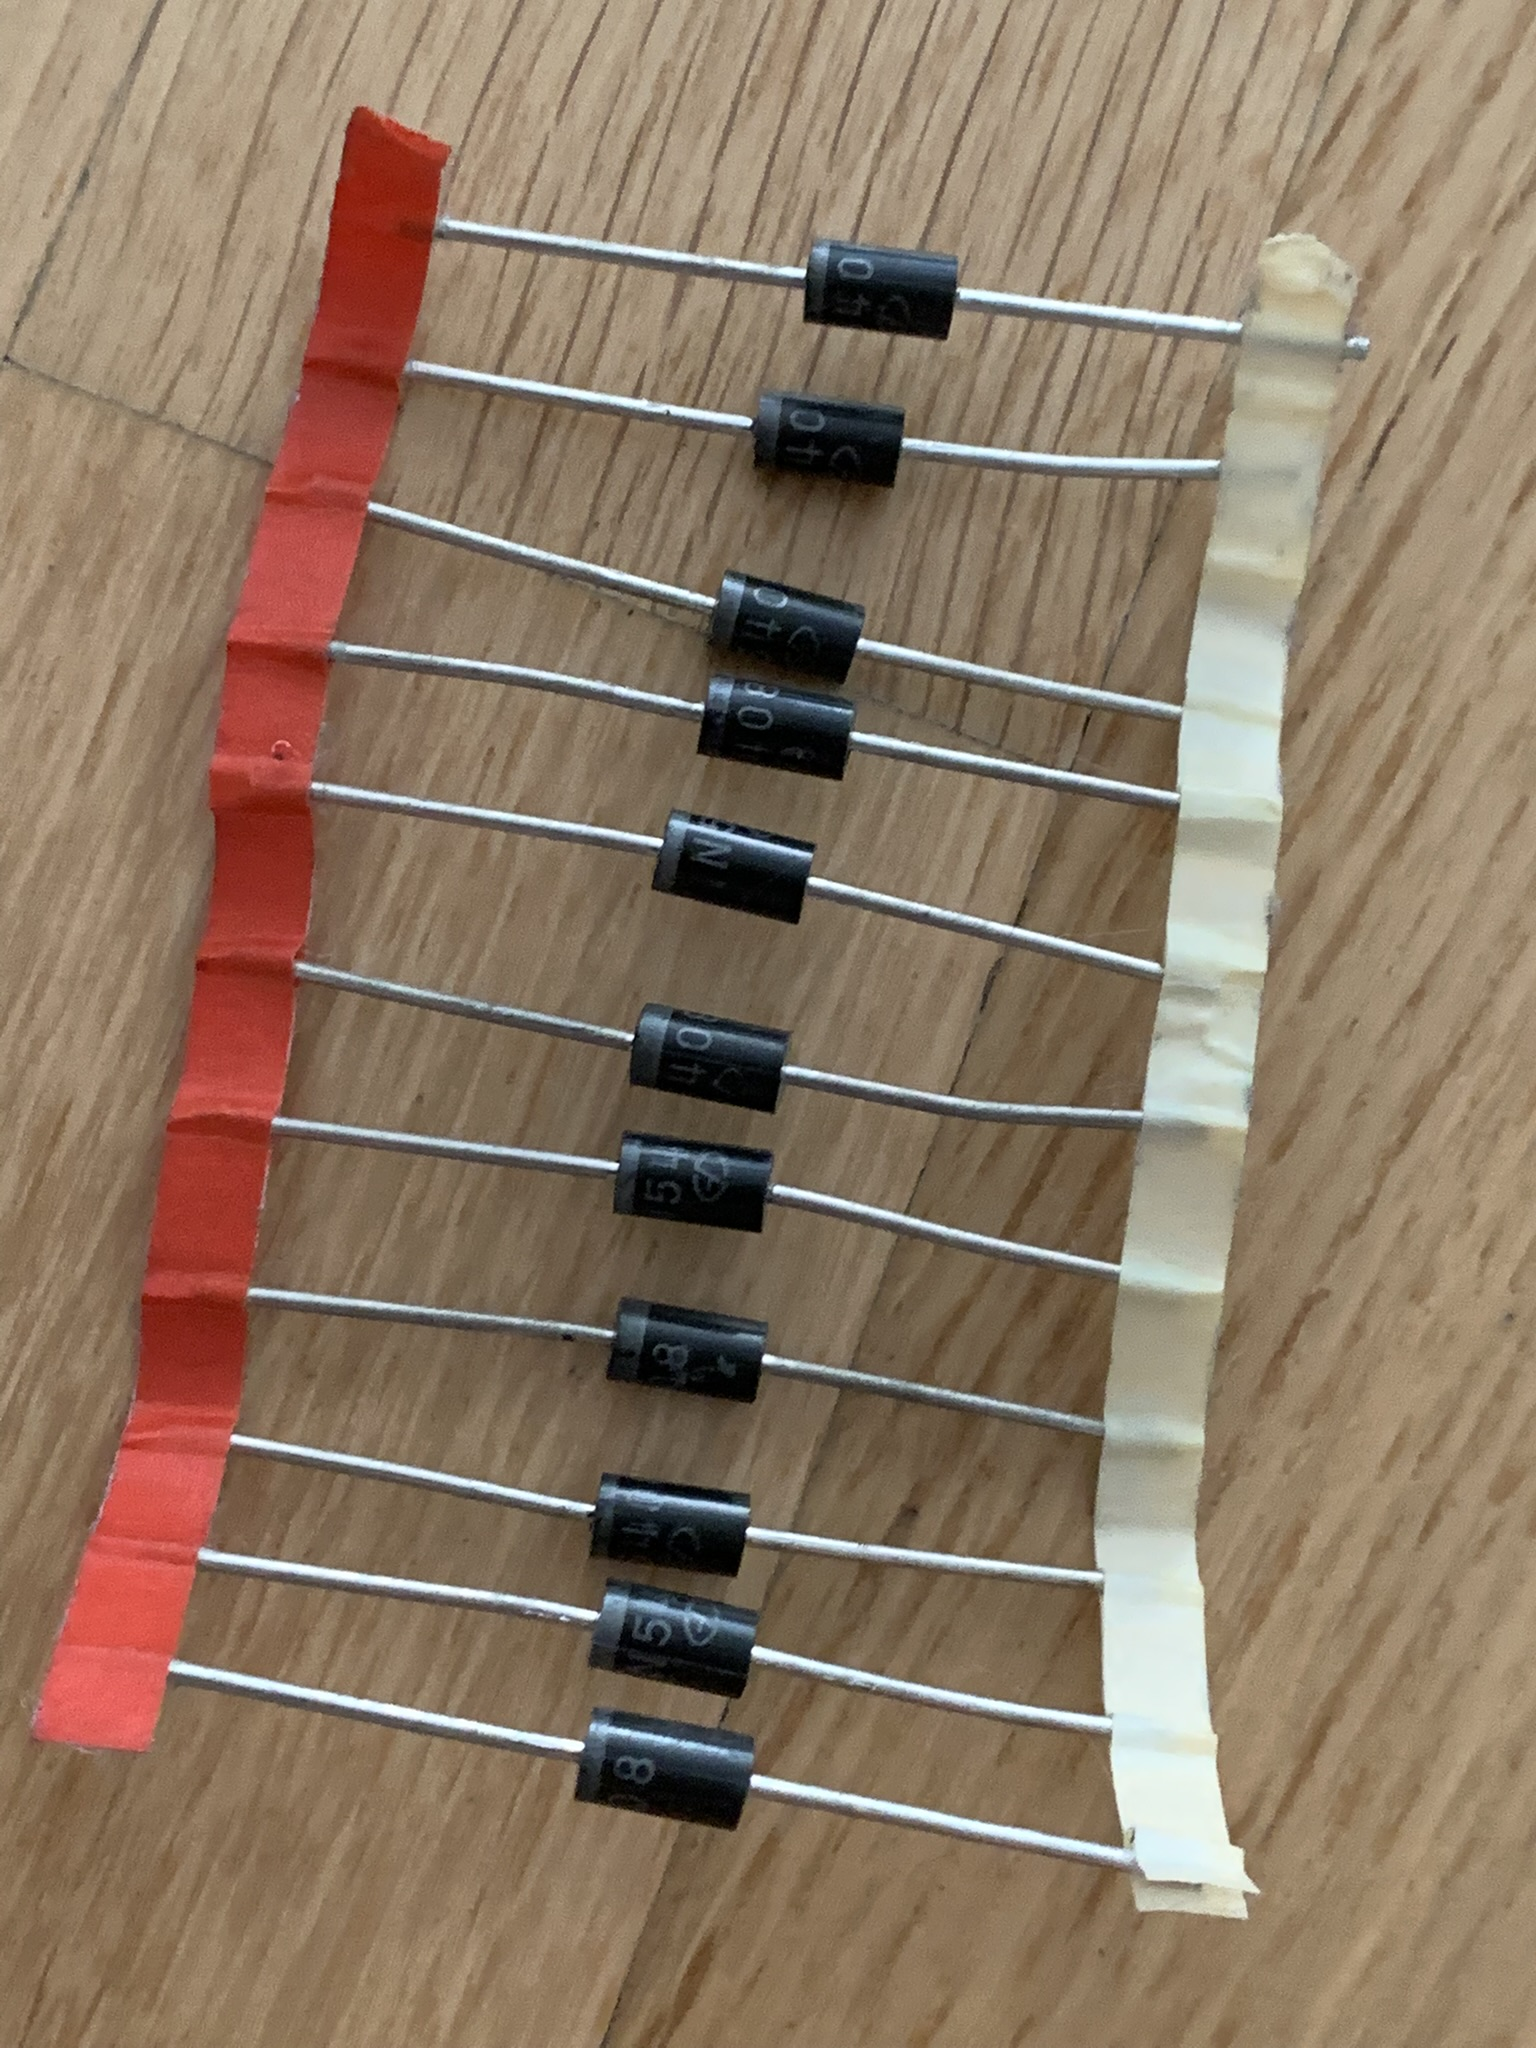diode_thd: (573, 1706, 757, 1832), (587, 1576, 762, 1700), (649, 806, 816, 926), (628, 1003, 799, 1114), (705, 569, 868, 685), (694, 671, 858, 784), (603, 1297, 770, 1406), (587, 1472, 755, 1577), (802, 240, 958, 343), (752, 390, 908, 487)
